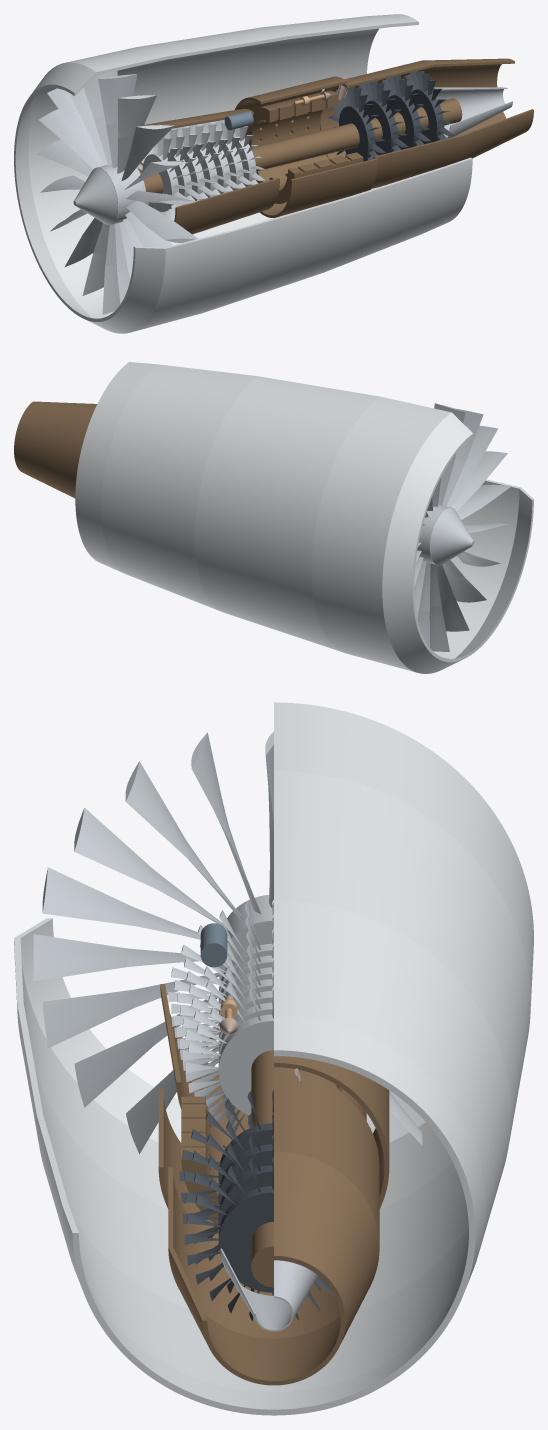
Rendered from engine-cutaway.glb.
3 views of the same model, one above another, from view 1: azimuth 30°, elevation 25°; view 2: azimuth 150°, elevation 25°; view 3: azimuth 270°, elevation 25° (orthographic). The views are drawn at different scales.
Parts seen in each view (by area): view 1: Nacelle, Fan_20_blades, Perforated_combustor_liner, Combustor_case, Core_nozzle, Turbine_case, Inner_shaft, Compressor_case, Tail_cone, High_pressure_turbine_1, Spinner, High_pressure_turbine_2 (+10 smaller); view 2: Nacelle, Fan_20_blades, Core_nozzle, Spinner; view 3: Nacelle, Fan_20_blades, Core_nozzle, Turbine_case, Combustor_case, Low_pressure_turbine_4, Compressor_rotor_7, Perforated_combustor_liner, Tail_cone, Inner_shaft, Low_pressure_turbine_3, Compressor_rotor_6 (+9 smaller).
Part boxes in pixels (x1,y1,x2,y2): Nacelle: [14, 14, 472, 333]; Fan_20_blades: [36, 70, 197, 314]; Perforated_combustor_liner: [245, 90, 363, 203]; Combustor_case: [235, 76, 377, 217]; Core_nozzle: [418, 58, 533, 161]; Turbine_case: [320, 60, 462, 188]; Inner_shaft: [143, 98, 462, 193]; Compressor_case: [137, 108, 279, 234]; Tail_cone: [432, 87, 512, 138]; High_pressure_turbine_1: [328, 86, 385, 161]; Spinner: [73, 167, 117, 224]; High_pressure_turbine_2: [358, 80, 408, 155]; Nacelle: [75, 362, 533, 673]; Fan_20_blades: [414, 403, 511, 651]; Core_nozzle: [14, 401, 97, 498]; Spinner: [430, 508, 474, 565]; Nacelle: [14, 702, 533, 1415]; Fan_20_blades: [33, 731, 422, 1154]; Core_nozzle: [168, 1151, 379, 1385]; Turbine_case: [168, 1071, 379, 1338]; Combustor_case: [158, 1056, 389, 1243]; Low_pressure_turbine_4: [184, 1157, 334, 1320]; Compressor_rotor_7: [186, 986, 273, 1140]; Perforated_combustor_liner: [181, 1067, 366, 1224]; Tail_cone: [220, 1248, 318, 1331]; Inner_shaft: [251, 1050, 273, 1287]; Low_pressure_turbine_3: [183, 1134, 320, 1293]; Compressor_rotor_6: [183, 972, 273, 1127].
Bounding box in the file's own units: 3.81 × 2.08 × 2.08.
